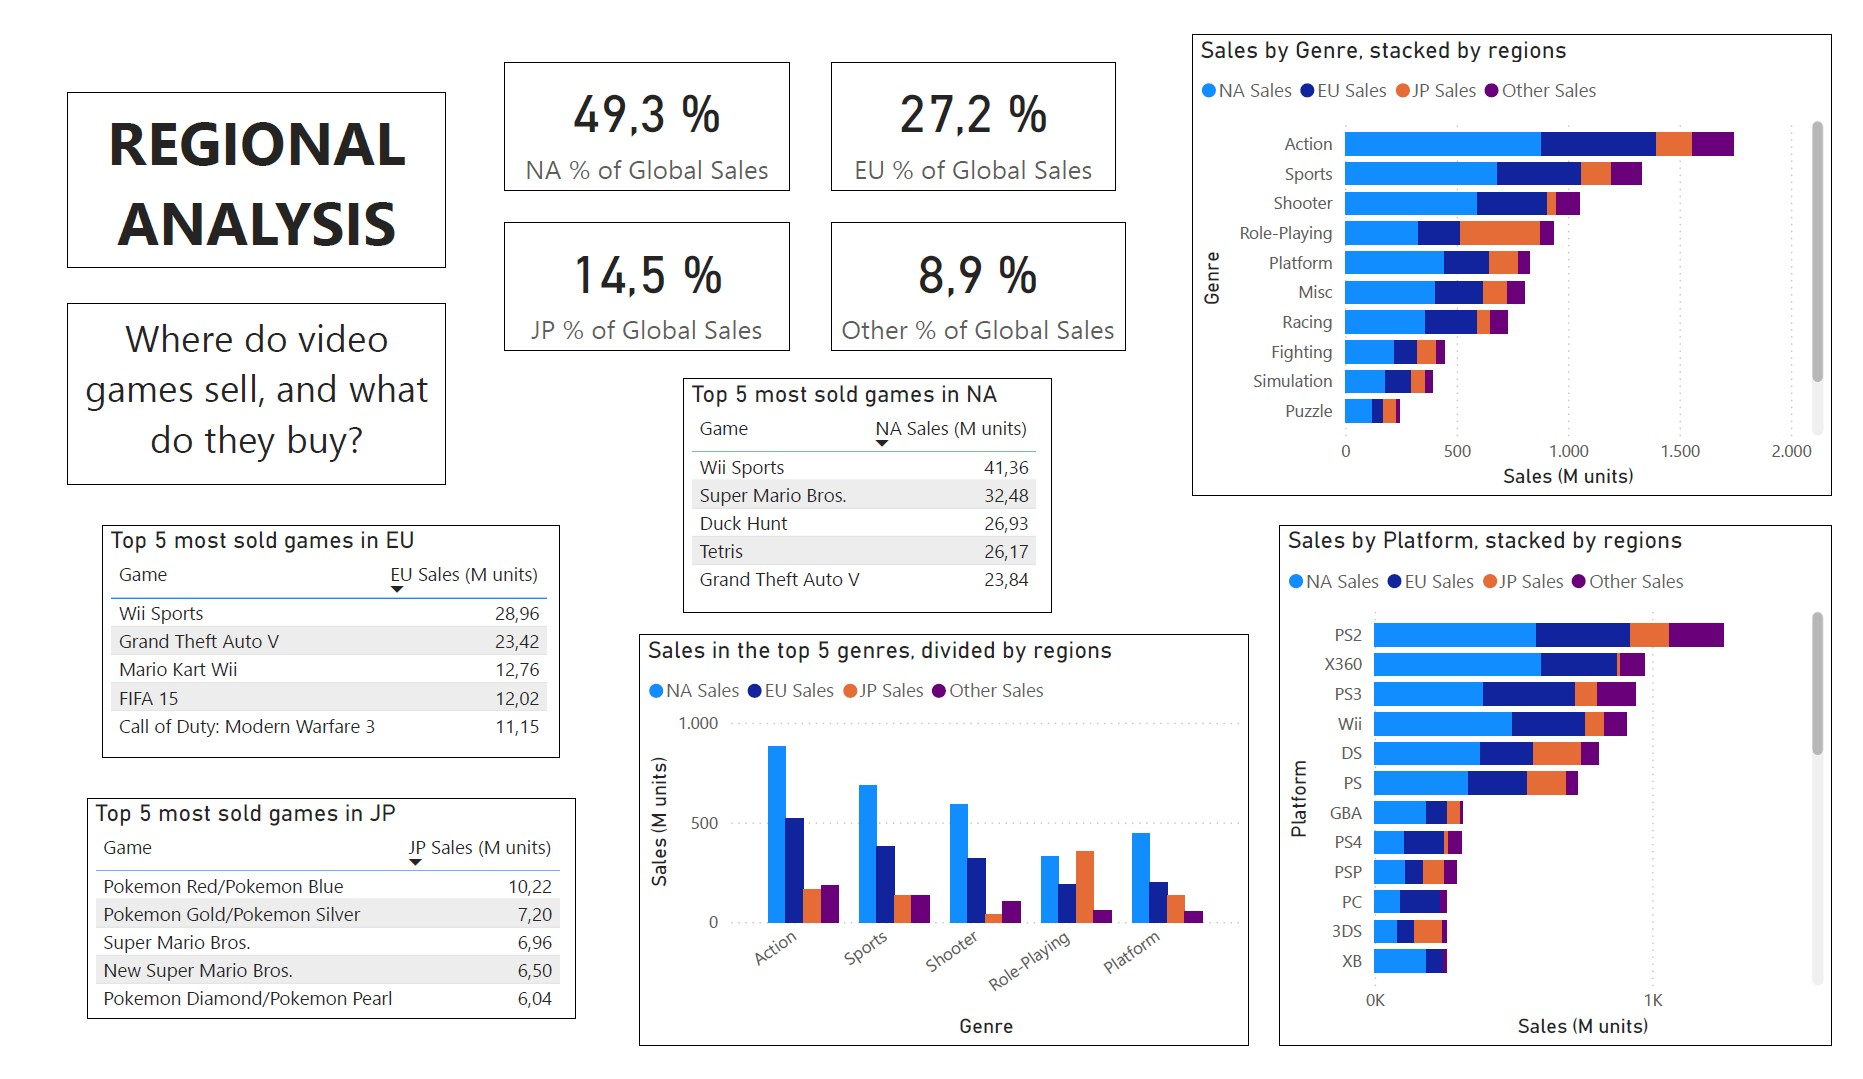

The dashboard page shown, as its layout file describes it:
{"tool":"powerbi","page":{"name":"Regional Analysis","canvas":[1280,720],"ordinal":2},"visuals":[{"type":"textbox","box":[25,41,270,126],"z":0},{"type":"textbox","box":[25,191,270,130],"z":1000},{"type":"card","fields":{"Values":["videogames_final.NA % of Global"]},"box":[336,20,203,92],"z":2000},{"type":"card","fields":{"Values":["videogames_final.EU % of Global"]},"box":[568,20,203,92],"z":3000},{"type":"card","fields":{"Values":["videogames_final.JP % of Global"]},"box":[336,134,203,92],"z":4000},{"type":"card","fields":{"Values":["videogames_final.Other % of Global"]},"box":[568,134,210,92],"z":5000},{"type":"barChart","title":"Sales by Genre, stacked by regions","fields":{"Category":["videogames_final.Genre"],"Y":["Sum(videogames_final.NA_Sales)","Sum(videogames_final.EU_Sales)","Sum(videogames_final.JP_Sales)","Sum(videogames_final.Other_Sales)"]},"box":[825,0,455,329],"z":7000},{"type":"barChart","title":"Sales by Platform, stacked by regions","fields":{"Y":["Sum(videogames_final.NA_Sales)","Sum(videogames_final.EU_Sales)","Sum(videogames_final.JP_Sales)","Sum(videogames_final.Other_Sales)"],"Category":["videogames_final.Platform"]},"box":[887.1,349.2,392.9,370.6],"z":8000},{"type":"clusteredColumnChart","title":"Sales in the top 5 genres, divided by regions","fields":{"Category":["videogames_final.Genre"],"Y":["Sum(videogames_final.NA_Sales)","Sum(videogames_final.EU_Sales)","Sum(videogames_final.JP_Sales)","Sum(videogames_final.Other_Sales)"]},"box":[432,427,434,293],"z":9000},{"type":"tableEx","title":"Top 5 most sold games in NA","fields":{"Values":["videogames_final.Name","Sum(videogames_final.NA_Sales)"]},"box":[463,245,263,167],"z":10000},{"type":"tableEx","title":"Top 5 most sold games in JP","fields":{"Values":["videogames_final.Name","Sum(videogames_final.JP_Sales)"]},"box":[39,543,348,158],"z":11000},{"type":"tableEx","title":"Top 5 most sold games in EU","fields":{"Values":["videogames_final.Name","Sum(videogames_final.EU_Sales)"]},"box":[50,349,326,166],"z":12000}]}

Visuals, with their boxes in screenshot pixels (x1, y1, x2, y2), scaled from the page's 1280x720 canvas onto the 1863x1079 screenshot:
textbox: x1=36 y1=61 x2=429 y2=250
textbox: x1=36 y1=286 x2=429 y2=481
card - videogames_final.NA % of Global: x1=489 y1=30 x2=784 y2=168
card - videogames_final.EU % of Global: x1=827 y1=30 x2=1122 y2=168
card - videogames_final.JP % of Global: x1=489 y1=201 x2=784 y2=339
card - videogames_final.Other % of Global: x1=827 y1=201 x2=1132 y2=339
"Sales by Genre, stacked by regions" barChart: x1=1201 y1=0 x2=1862 y2=493
"Sales by Platform, stacked by regions" barChart: x1=1291 y1=523 x2=1862 y2=1078
"Sales in the top 5 genres, divided by regions" clusteredColumnChart: x1=629 y1=640 x2=1260 y2=1078
"Top 5 most sold games in NA" tableEx: x1=674 y1=367 x2=1057 y2=617
"Top 5 most sold games in JP" tableEx: x1=57 y1=814 x2=563 y2=1051
"Top 5 most sold games in EU" tableEx: x1=73 y1=523 x2=547 y2=772
